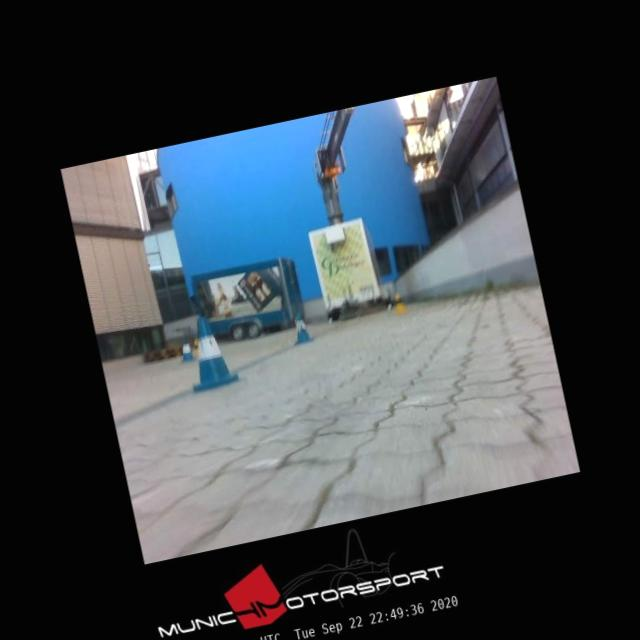blue_cone: (180, 312, 238, 390), (288, 312, 314, 344), (178, 338, 194, 362)
yellow_cone: (392, 294, 405, 314), (192, 339, 199, 355)
